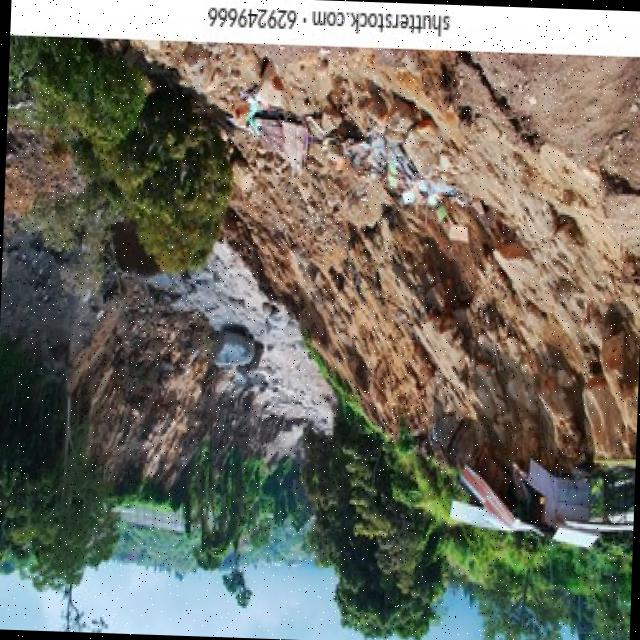road collapse: (0, 41, 640, 552)
